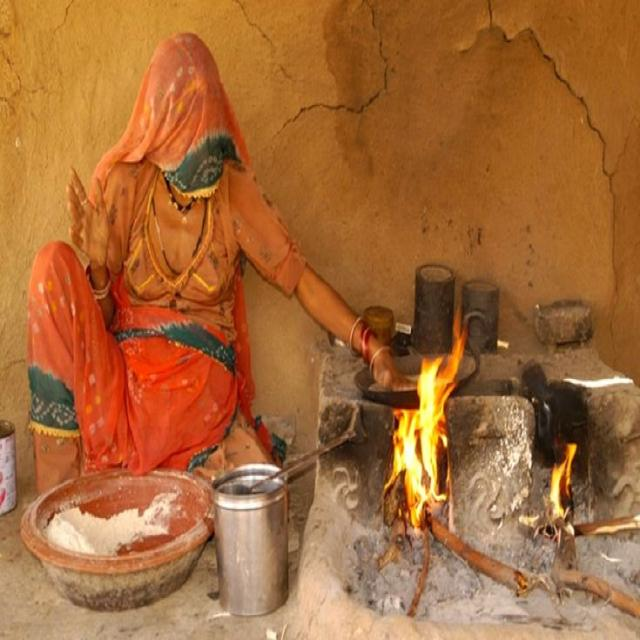fire: (384, 407, 447, 537), (550, 443, 576, 519), (443, 305, 463, 399), (416, 354, 441, 407)
